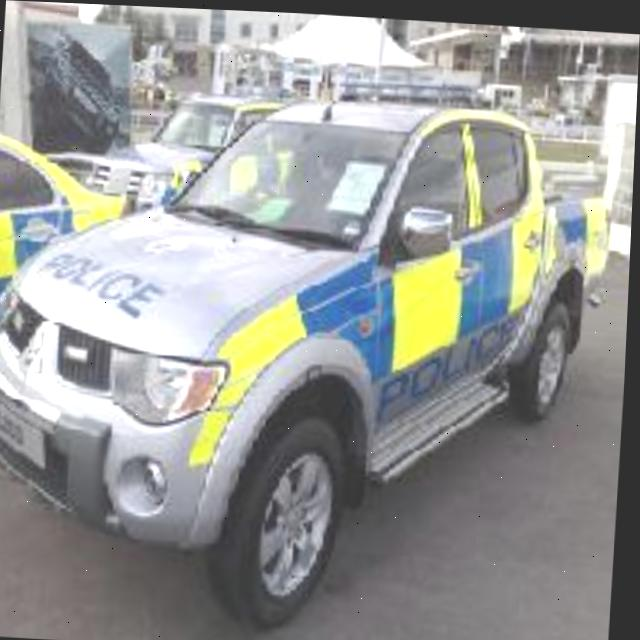emergency: (0, 49, 593, 583)
